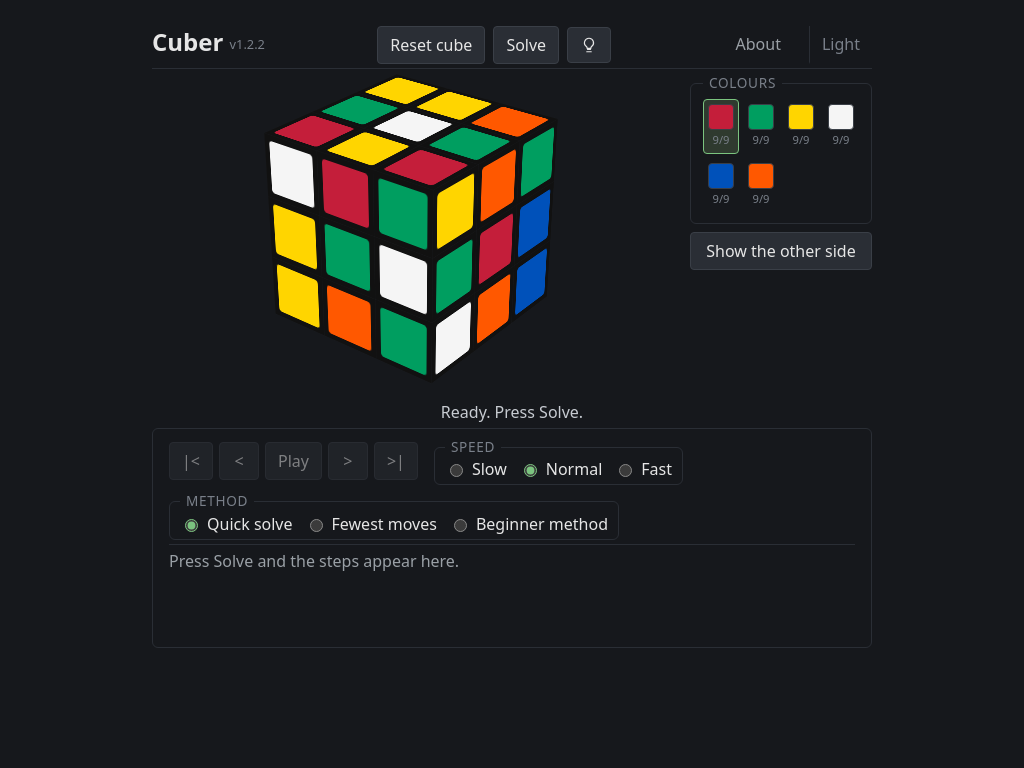
Test: painting while a solution is showing › discards the solution and keeps the cube as it is on screen
The width and height of the screenshot is (1024, 768).
Step 1. Click the button "Solve" → x=526, y=45, box [493,26,559,64]
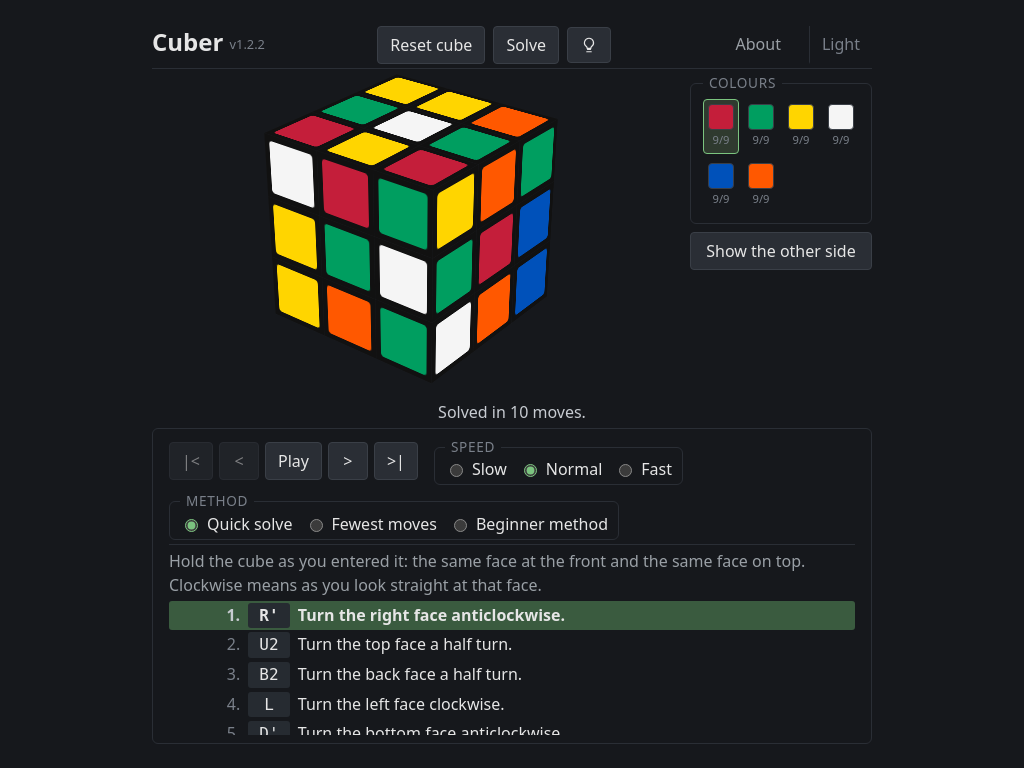
Step 2. Click the button named "Step forward" → x=348, y=461, box [328,442,368,480]
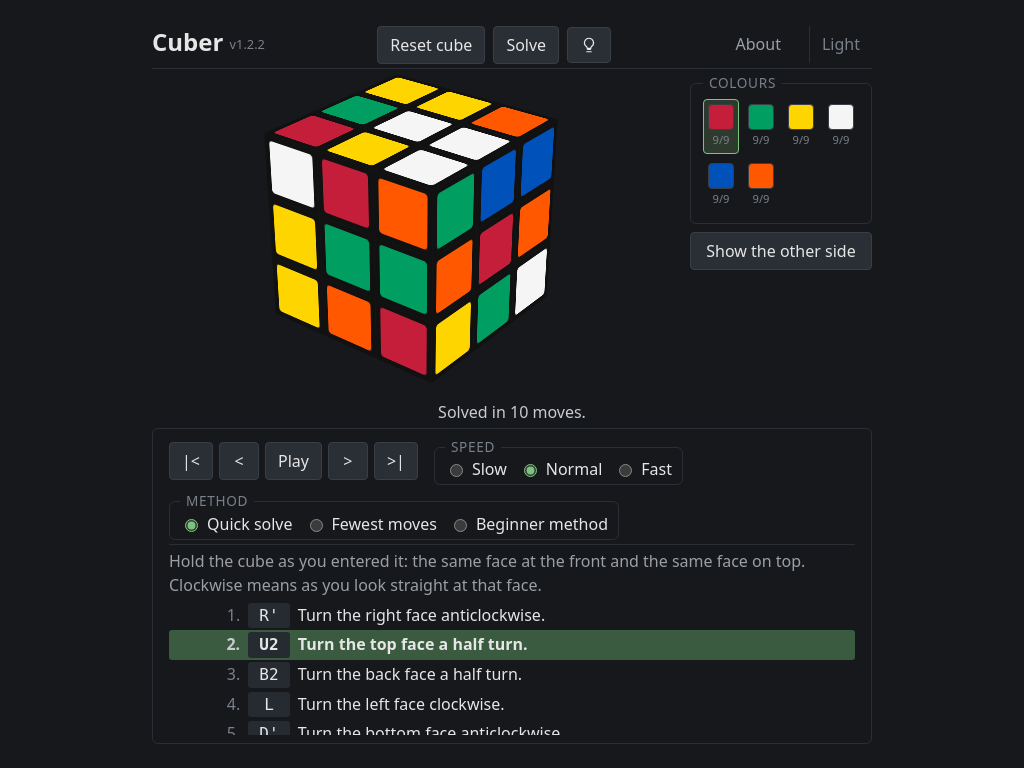
Step 3. Click the button named "Step forward" → x=348, y=461, box [328,442,368,480]
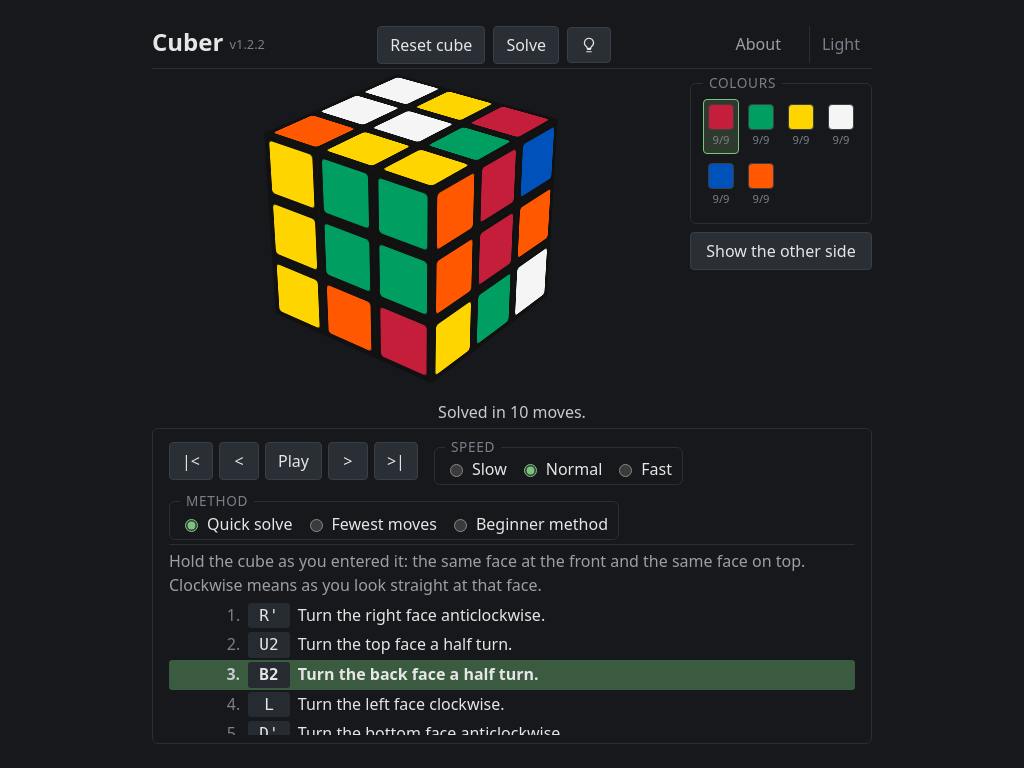
Step 4. Click the button named "Step forward" → x=348, y=461, box [328,442,368,480]
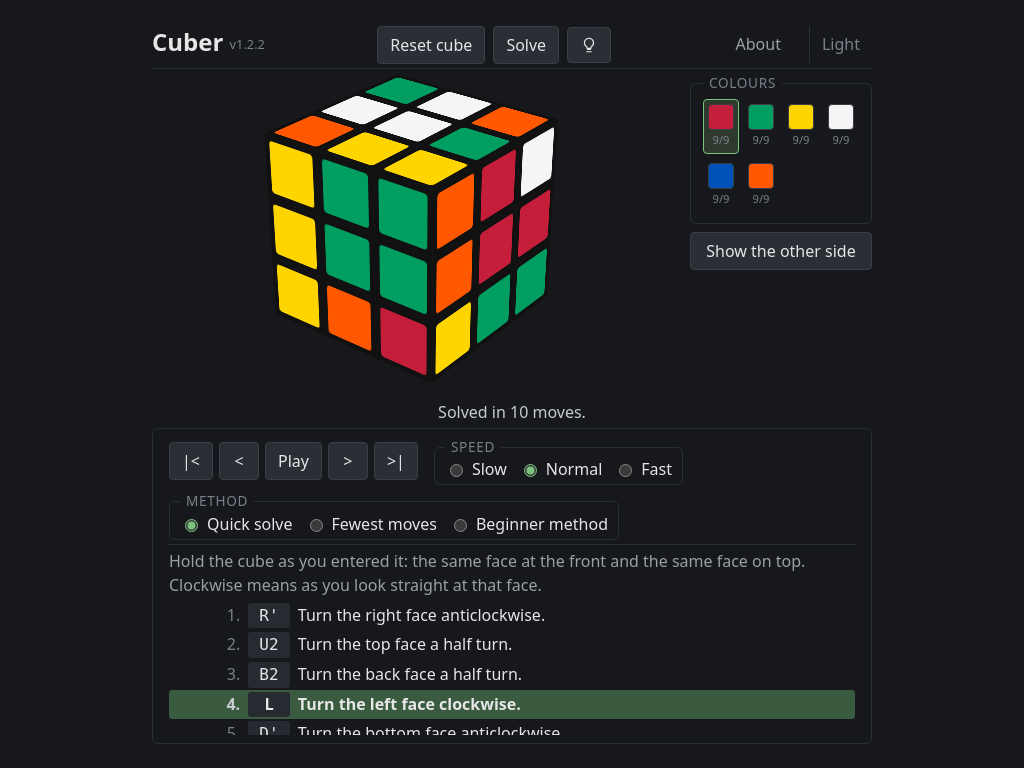
Step 5. Click the button named "the top face, row 1, column 1, green" → x=402, y=90, box [356,74,447,107]
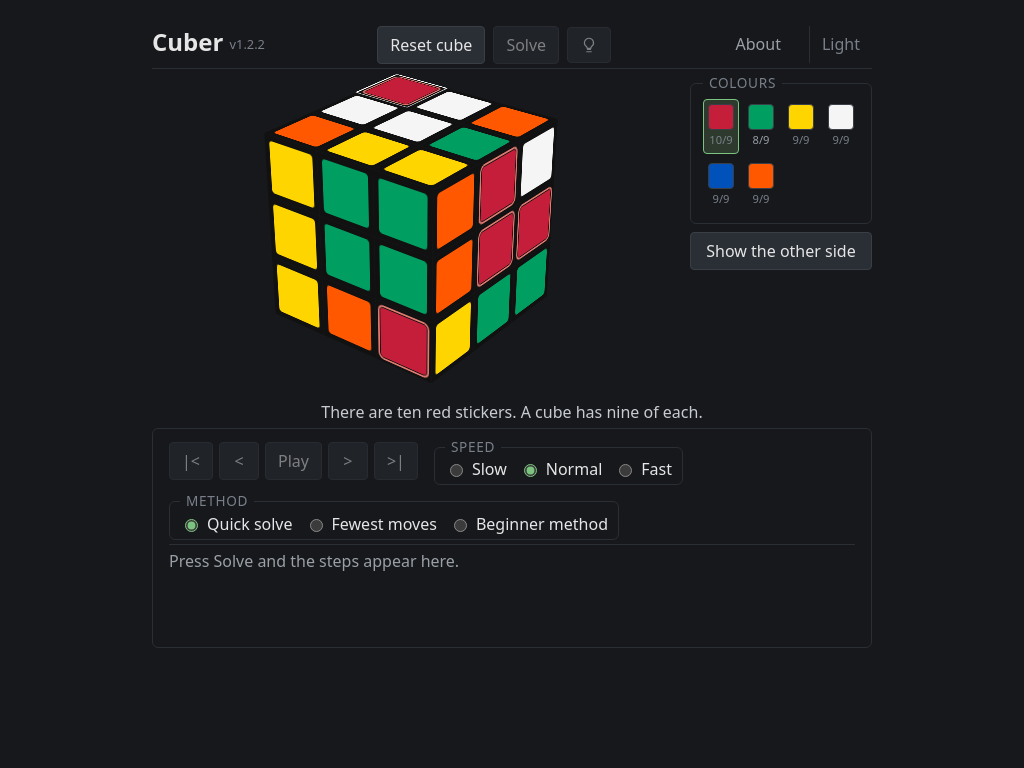
Expected: the text "Press Solve and the steps appear here." is shown, [169,550,459,572]
